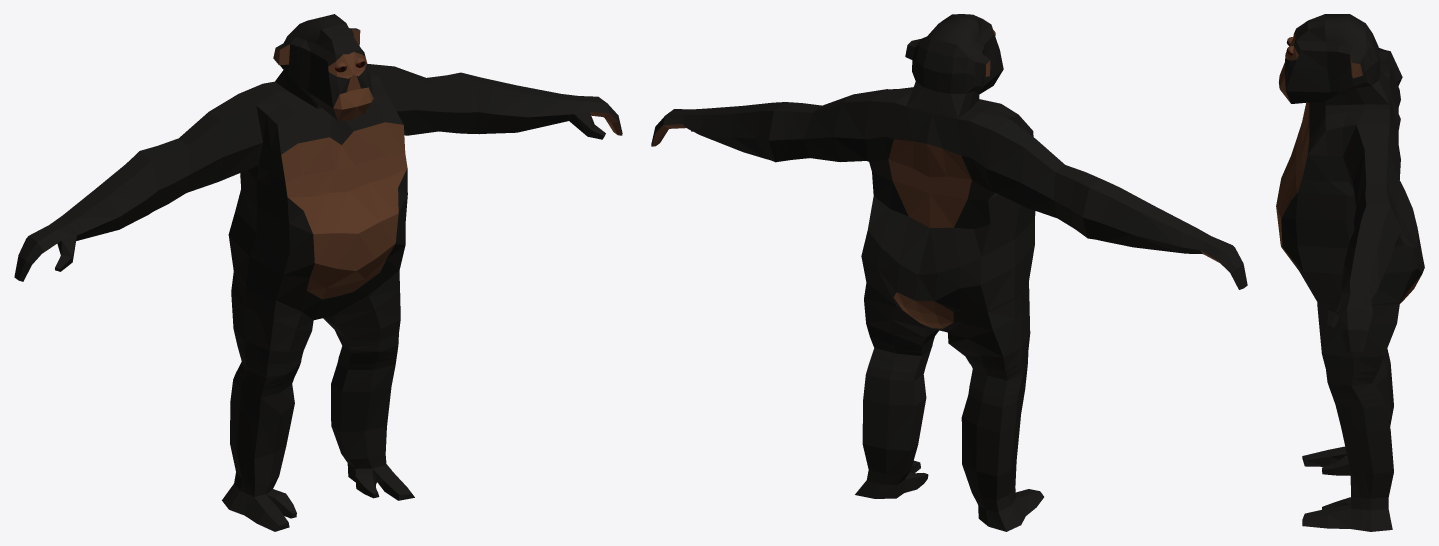
The model's file is Macaco.fbx.
3 views of the same model, side by side, from view 1: azimuth 30°, elevation 25°; view 2: azimuth 150°, elevation 25°; view 3: azimuth 270°, elevation 25° (orthographic).
Parts seen in each view (by area): view 1: Macaco; view 2: Macaco; view 3: Macaco.
Boxes of the visible parts, x1=… form: Macaco: x1=14, y1=14, x2=622, y2=531; Macaco: x1=651, y1=14, x2=1247, y2=531; Macaco: x1=1276, y1=14, x2=1424, y2=531.
Bounding box in the file's own units: 1.6 × 1.21 × 0.3464.
